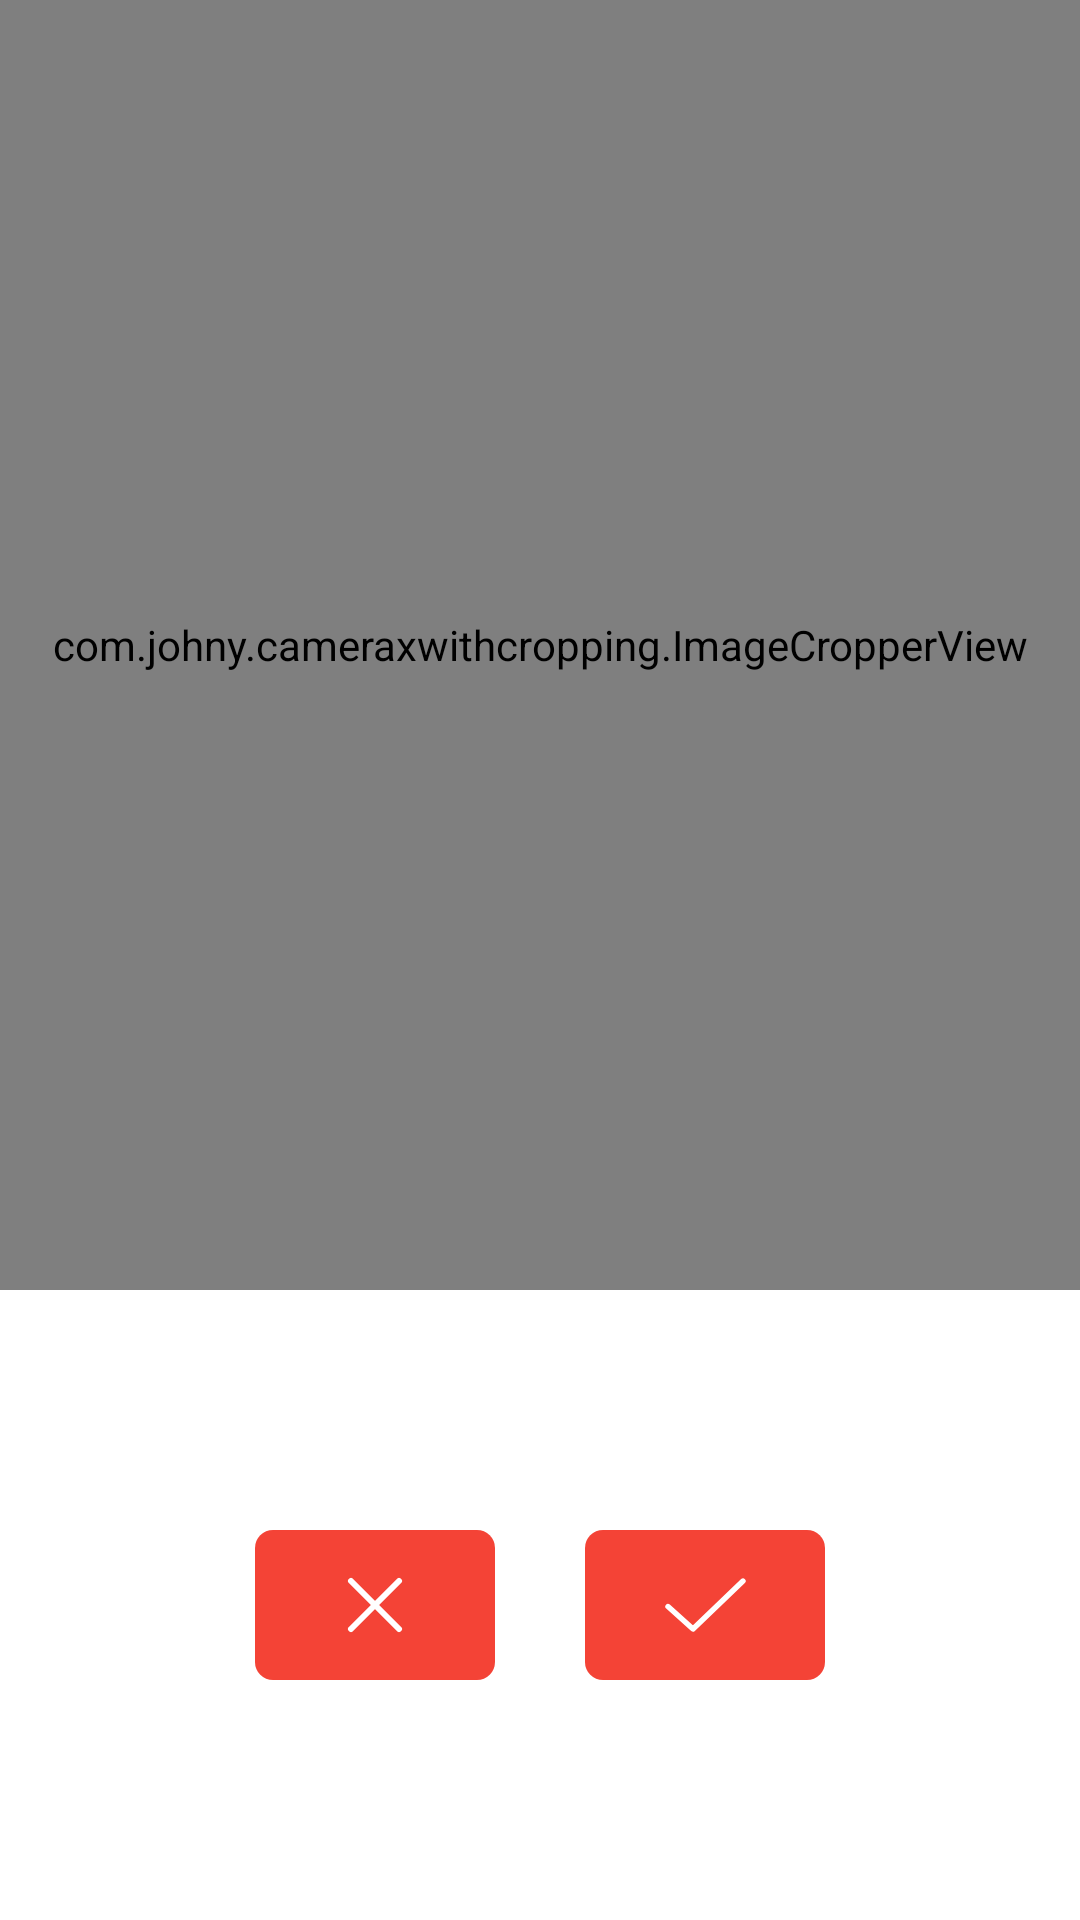

Point at icon controls on the screen. Image size 1080 x 1920, points as [x,y].
cross: [375,1605]
